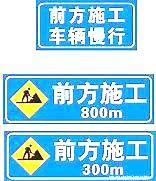sign: (3, 76, 154, 124), (6, 132, 153, 180), (37, 1, 136, 48)
